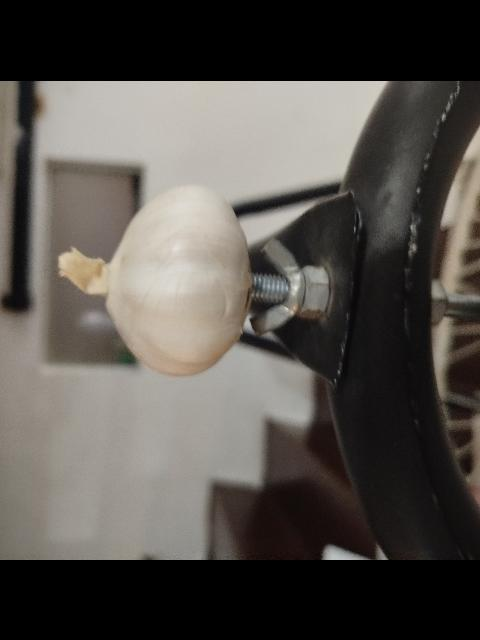garlic: (42, 160, 262, 384)
